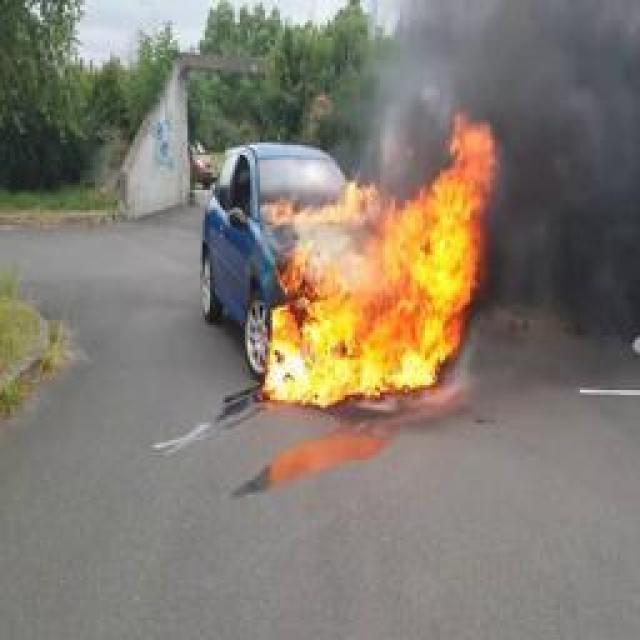Fire: (264, 118, 498, 408)
